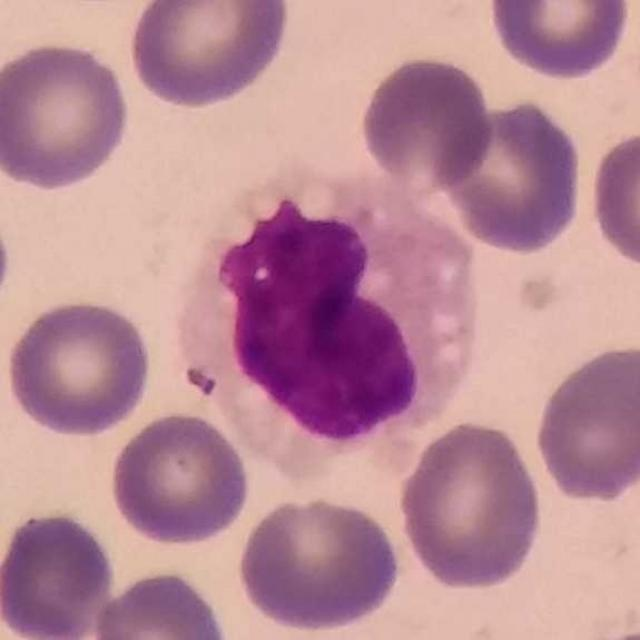mono: (180, 151, 488, 498)
